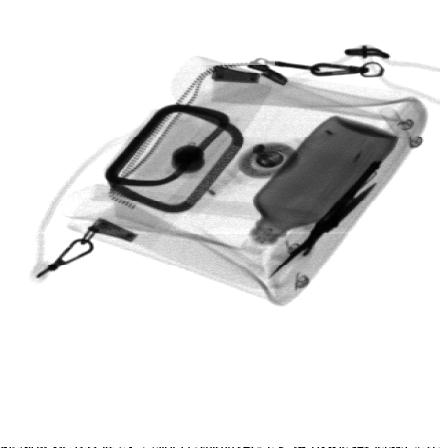Knife: (267, 181, 376, 277)
Scissors: (278, 156, 385, 258)
